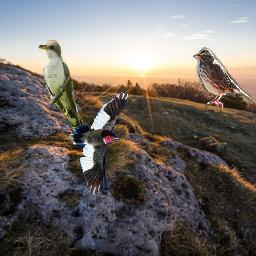Cuckoo: (39, 39, 84, 131)
Sparrow: (193, 47, 251, 109)
Woodpecker: (68, 91, 129, 195)
